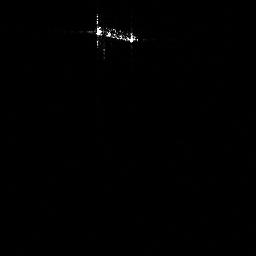ship: (90, 10, 142, 50)
